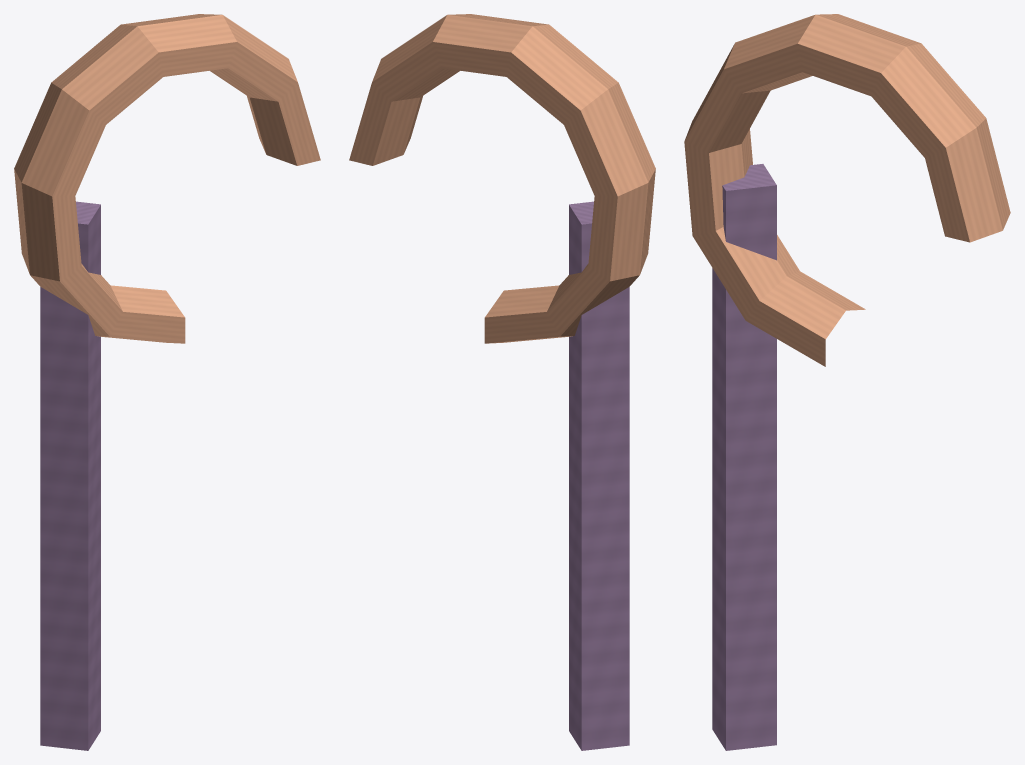
Rendered from atlas100-s089-a05.glb.
3 renders of one model, left to right at view 1: azimuth 30°, elevation 25°; view 2: azimuth 150°, elevation 25°; view 3: azimuth 330°, elevation 25°, orthographic. The views are drawn at different scales.
Parts seen in each view (by area): view 1: atlas100-s089-a05:part-001, atlas100-s089-a05:part-000; view 2: atlas100-s089-a05:part-001, atlas100-s089-a05:part-000; view 3: atlas100-s089-a05:part-001, atlas100-s089-a05:part-000.
Boxes of the visible parts, bbox=[...] form: atlas100-s089-a05:part-001: bbox=[14, 14, 320, 343]; atlas100-s089-a05:part-000: bbox=[40, 201, 100, 750]; atlas100-s089-a05:part-001: bbox=[349, 14, 655, 343]; atlas100-s089-a05:part-000: bbox=[569, 201, 629, 750]; atlas100-s089-a05:part-001: bbox=[684, 14, 1010, 366]; atlas100-s089-a05:part-000: bbox=[712, 164, 776, 750].
Bounding box in the file's own units: 0.3677 × 0.8371 × 0.0832.
Materials: 2 (2 with a texture image).
